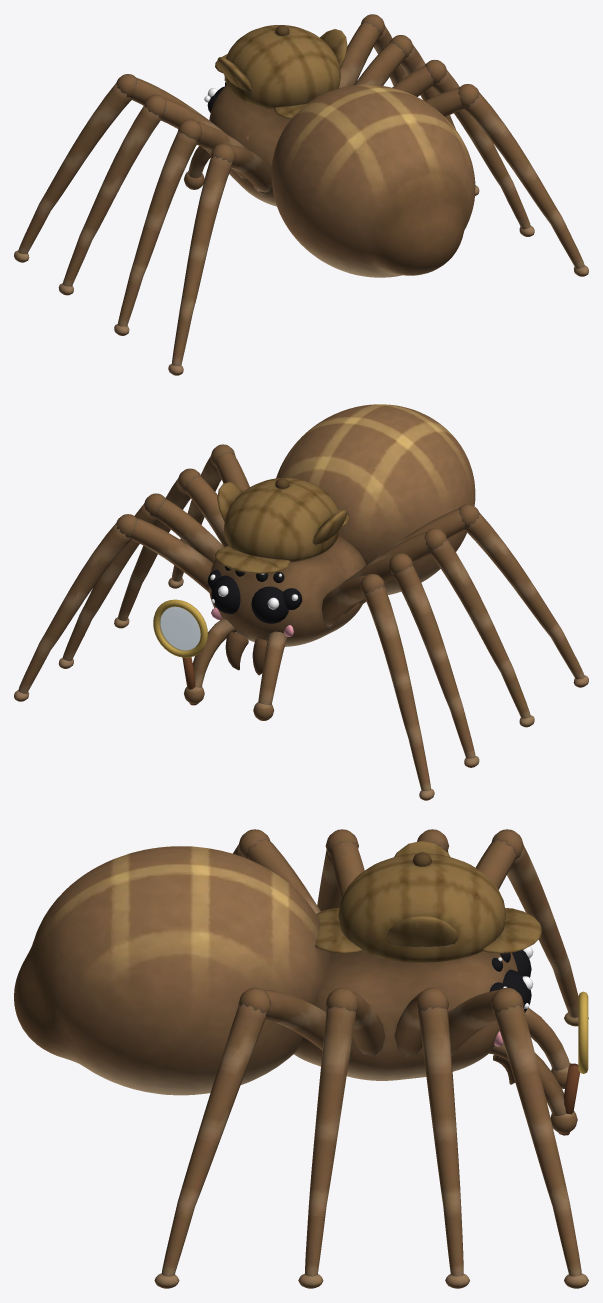
Rendered from spiders-detective.glb.
The picture shows the model from 3 angles, top to bottom: view 1: azimuth 30°, elevation 25°; view 2: azimuth 150°, elevation 25°; view 3: azimuth 270°, elevation 25°; orthographic projection. The views are drawn at different scales.
Visible parts, largest first — view 1: Detective__Abdomen, Detective__Deerstalker, Detective__Leg4LLow, Detective__Leg3LLow, Detective__Body, Detective__Leg4RLow, Detective__Leg2LLow, Detective__Leg1LLow, Detective__Leg3RLow, Detective__Leg1RUp, Detective__Leg4LUp, Detective__Leg2RUp (+7 smaller); view 2: Detective__Abdomen, Detective__Deerstalker, Detective__Body, Detective__Leg1LLow, Detective__Leg2LLow, Detective__Leg3LLow, Detective__Leg4LLow, Detective__Leg1RLow, Detective__Leg1RUp, Detective__Eyes, Detective__Leg2RLow, Detective__Leg2RUp (+13 smaller); view 3: Detective__Abdomen, Detective__Deerstalker, Detective__Body, Detective__Leg4RLow, Detective__Leg1RLow, Detective__Leg2RLow, Detective__Leg3RLow, Detective__Leg1LLow, Detective__Leg4RUp, Detective__Leg1RUp, Detective__Leg3RUp, Detective__Leg4LUp (+9 smaller).
Part boxes in pixels (x1,y1,x2,y2): Detective__Abdomen: [271, 84, 475, 277]; Detective__Deerstalker: [215, 25, 347, 119]; Detective__Leg4LLow: [168, 155, 232, 375]; Detective__Leg3LLow: [114, 131, 198, 335]; Detective__Body: [209, 85, 290, 206]; Detective__Leg4RLow: [464, 92, 588, 276]; Detective__Leg2LLow: [58, 105, 161, 295]; Detective__Leg1LLow: [14, 83, 131, 262]; Detective__Leg3RLow: [432, 70, 534, 236]; Detective__Leg1RUp: [338, 14, 385, 88]; Detective__Leg4LUp: [210, 143, 271, 195]; Detective__Leg2RUp: [354, 35, 413, 85]; Detective__Abdomen: [276, 404, 475, 594]; Detective__Deerstalker: [215, 478, 349, 573]; Detective__Body: [208, 536, 366, 646]; Detective__Leg1LLow: [364, 585, 434, 800]; Detective__Leg2LLow: [393, 564, 479, 767]; Detective__Leg3LLow: [430, 538, 534, 727]; Detective__Leg4LLow: [465, 512, 588, 687]; Detective__Leg1RLow: [14, 523, 131, 701]; Detective__Leg1RUp: [116, 514, 213, 592]; Detective__Eyes: [207, 566, 301, 623]; Detective__Leg2RLow: [58, 503, 158, 668]; Detective__Leg2RUp: [144, 493, 224, 562]; Detective__Abdomen: [14, 846, 330, 1095]; Detective__Deerstalker: [315, 840, 542, 962]; Detective__Body: [294, 951, 517, 1080]; Detective__Leg4RLow: [154, 1003, 266, 1288]; Detective__Leg1RLow: [494, 1004, 588, 1288]; Detective__Leg2RLow: [418, 1006, 469, 1288]; Detective__Leg3RLow: [298, 1006, 356, 1288]; Detective__Leg1LLow: [507, 846, 588, 1026]; Detective__Leg4RUp: [238, 987, 350, 1060]; Detective__Leg1RUp: [448, 987, 523, 1055]; Detective__Leg3RUp: [325, 987, 385, 1056]; Detective__Leg4LUp: [238, 829, 320, 913].
Bounding box in the file's own units: 22.87 × 11.97 × 20.57.
Materials: 29 (21 with a texture image).
